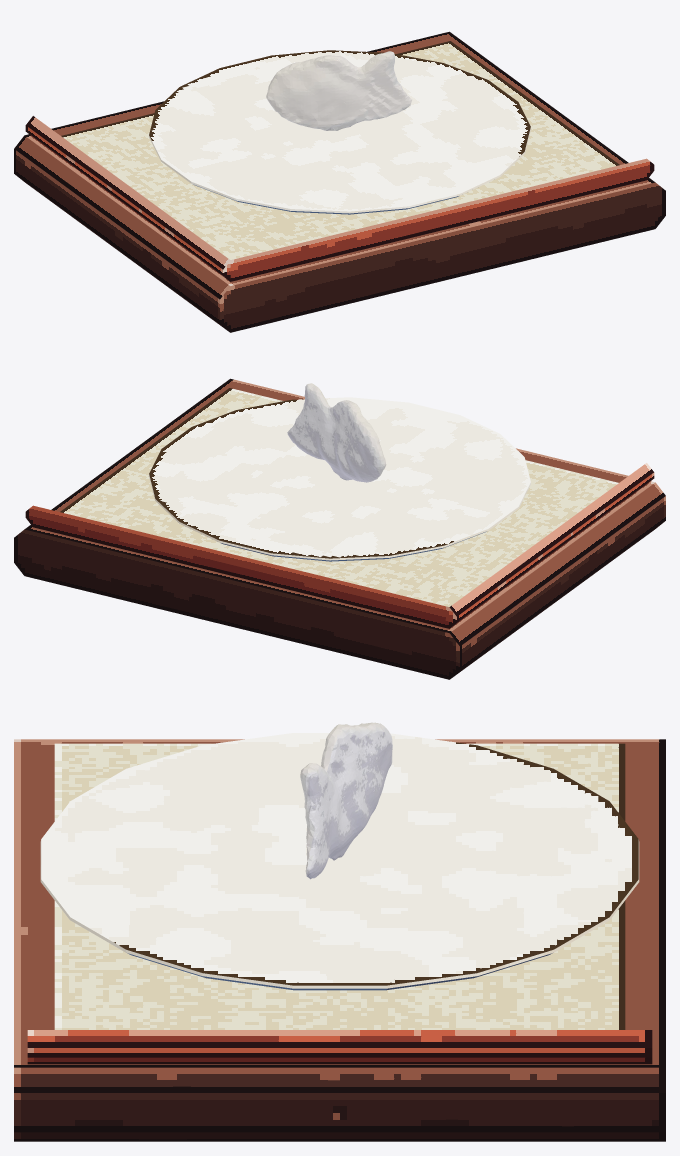
Rendered from taiyaki.glb.
3 renders of one model, top to bottom at view 1: azimuth 30°, elevation 25°; view 2: azimuth 150°, elevation 25°; view 3: azimuth 270°, elevation 25°, orthographic. The views are drawn at different scales.
Parts seen in each view (by area): view 1: plate, base, mat, rim, model_fish; view 2: plate, base, mat, rim, model_fish; view 3: plate, base, mat, rim, model_fish.
Part boxes in pixels (box(x1,y1,x2,y2)): plate: box(149, 50, 530, 214); base: box(14, 31, 665, 332); mat: box(61, 41, 619, 259); rim: box(25, 116, 654, 281); model_fish: box(266, 51, 412, 130); plate: box(149, 397, 530, 561); base: box(14, 378, 665, 679); mat: box(60, 388, 618, 606); rim: box(25, 463, 654, 628); model_fish: box(287, 383, 386, 482); plate: box(40, 733, 639, 990); base: box(14, 739, 665, 1141); mat: box(54, 743, 625, 1029); rim: box(27, 1030, 652, 1064); model_fish: box(300, 722, 392, 879).
Bounding box in the file's own units: 30 × 9.8 × 24.
Materials: 2 (2 with a texture image).
